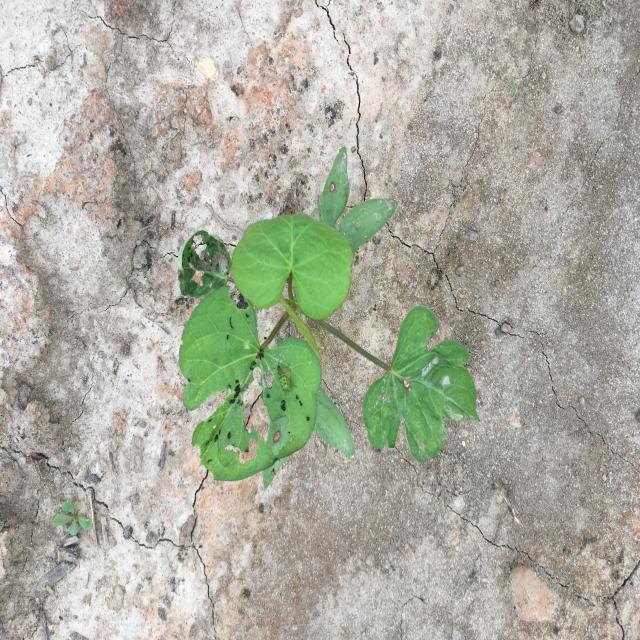Carpetweed: (53, 500, 92, 536)
MorningGlory: (178, 146, 480, 490)
